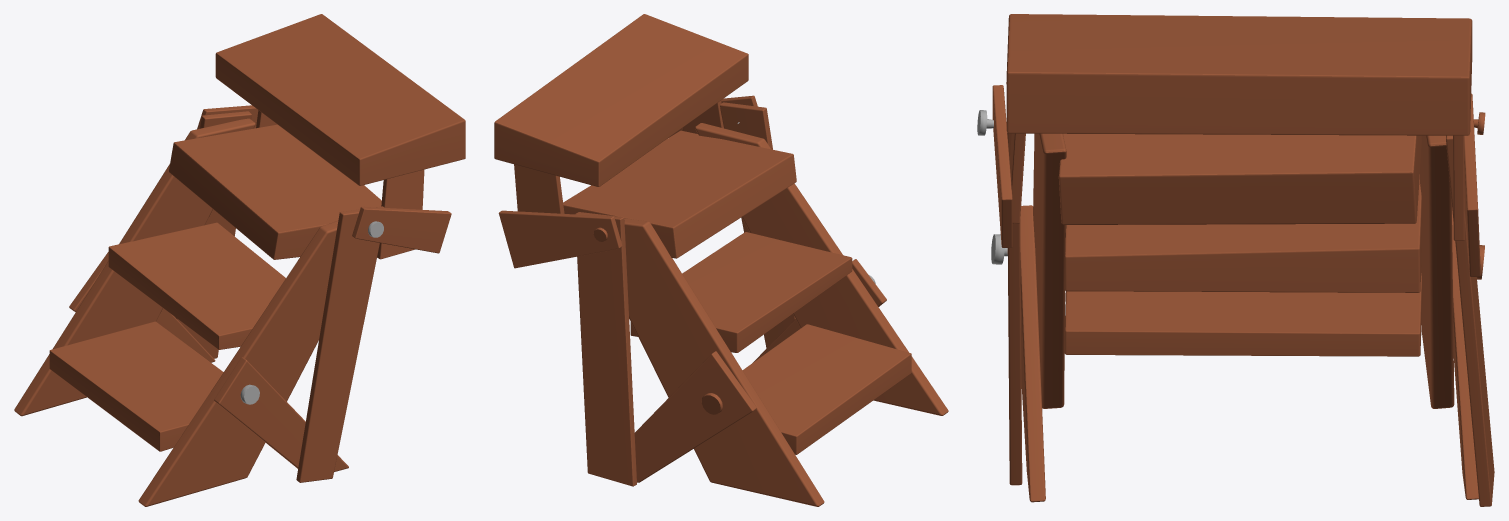
The model's file is stage_stair.fbx.
3 views of the same model, side by side, from view 1: azimuth 30°, elevation 25°; view 2: azimuth 150°, elevation 25°; view 3: azimuth 270°, elevation 25° (orthographic). The views are drawn at different scales.
Parts seen in each view (by area): view 1: foldable_underneath (×2), step1, step2, step3, step4, foldable_mid (×2), foldable_bottom (×2), foldable_top, foldable_underneath_top; view 2: foldable_underneath (×2), step1, step2, foldable_mid (×2), step4, step3, foldable_bottom (×2), foldable_top, foldable_underneath_top (×2); view 3: step1, step2, step3, step4, foldable_underneath (×2), foldable_mid (×2), foldable_bottom (×2), foldable_top (×2), foldable_underneath_top (×2).
Part boxes in pixels (left/top/right/bottom): foldable_underneath (×2): left=14, top=118, right=338, bottom=506; step1: left=215, top=14, right=465, bottom=185; step2: left=169, top=124, right=381, bottom=259; step3: left=108, top=222, right=285, bottom=349; step4: left=49, top=321, right=223, bottom=451; foldable_mid (×2): left=175, top=111, right=384, bottom=482; foldable_bottom (×2): left=69, top=252, right=348, bottom=471; foldable_top: left=352, top=206, right=451, bottom=253; foldable_underneath_top: left=377, top=169, right=424, bottom=259; foldable_underneath (×2): left=624, top=123, right=948, bottom=506; step1: left=494, top=14, right=748, bottom=186; step2: left=563, top=130, right=796, bottom=258; foldable_mid (×2): left=575, top=102, right=795, bottom=486; step4: left=742, top=324, right=911, bottom=454; step3: left=630, top=232, right=852, bottom=352; foldable_bottom (×2): left=634, top=259, right=886, bottom=482; foldable_top: left=498, top=210, right=622, bottom=268; foldable_underneath_top (×2): left=514, top=100, right=723, bottom=213; step1: left=1006, top=14, right=1472, bottom=135; step2: left=1058, top=133, right=1421, bottom=224; step3: left=1064, top=174, right=1422, bottom=292; step4: left=1064, top=273, right=1422, bottom=356; foldable_underneath (×2): left=1033, top=133, right=1454, bottom=408; foldable_mid (×2): left=1006, top=82, right=1494, bottom=506; foldable_bottom (×2): left=1020, top=205, right=1478, bottom=502; foldable_top (×2): left=992, top=85, right=1480, bottom=276; foldable_underneath_top (×2): left=1009, top=133, right=1464, bottom=240.
Size of the model in its own units: 130 by 128 by 117.
